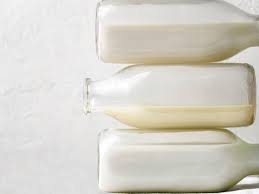milk: (80, 57, 259, 131), (91, 120, 259, 192), (84, 3, 259, 65)
